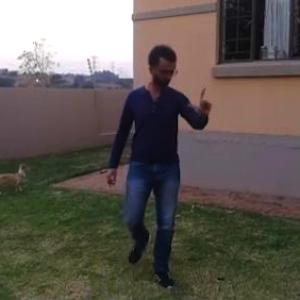land_hand: (186, 79, 220, 116)
